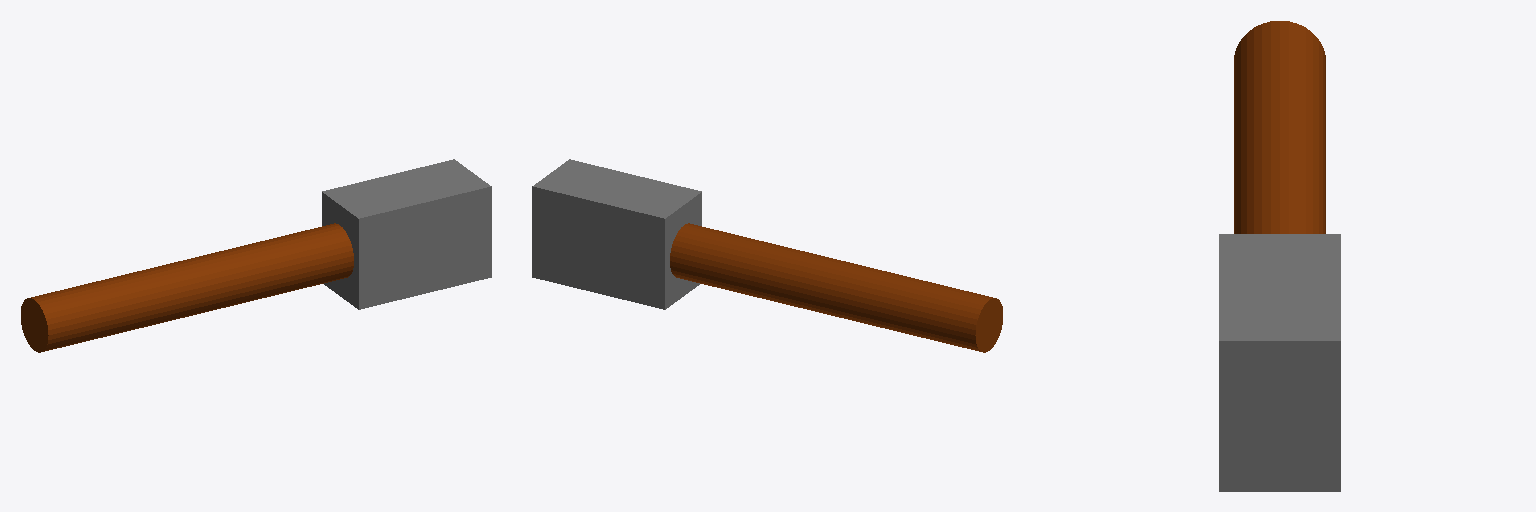
The robot description file, URDF, robot "handle_head":
<?xml version="1.0"?>
<robot name="handle_head">

  <link name="handle_head">
    <!-- Handle -->
    <visual>
              <origin xyz="0 0 0" rpy="0 -1.5707963267948966 0"/>
        <geometry>
          <cylinder length="0.17104368552662022" radius="0.01359433334502073"/>
        </geometry>
        
      <material name="brown">
        <color rgba="0.55 0.27 0.07 1.0"/>
      </material>
    </visual>
    <collision>
              <origin xyz="0 0 0" rpy="0 -1.5707963267948966 0"/>
        <geometry>
          <cylinder length="0.17104368552662022" radius="0.01359433334502073"/>
        </geometry>
        
    </collision>

    <!-- Head -->
    <visual>
              <origin xyz="0.12267751483198347 0 0" rpy="0 0 0"/>
        <geometry>
          <box size="0.0743113441373467 0.03599241417004795 0.048740312515078266"/>
        </geometry>
        
      <material name="gray">
        <color rgba="0.5 0.5 0.5 1.0"/>
      </material>
    </visual>
    <collision>
              <origin xyz="0.12267751483198347 0 0" rpy="0 0 0"/>
        <geometry>
          <box size="0.0743113441373467 0.03599241417004795 0.048740312515078266"/>
        </geometry>
        
    </collision>

    <inertial>
      <origin xyz="0.06466674672784063 0 0" rpy="0 0 0"/>
      <mass value="0.13615988345250518"/>
      <inertia ixx="2.7792657380022895e-05" iyy="0.0007536036389162882" izz="0.0007471430256915199" ixy="0" ixz="0" iyz="0"/>
    </inertial>
  </link>

</robot>

--- What the picture shows (computed from the rendered views, not written in the file) ---
The picture shows the robot from 3 angles, left to right: view 1: azimuth 30°, elevation 25°; view 2: azimuth 150°, elevation 25°; view 3: azimuth 270°, elevation 25°; orthographic projection.
Robot: handle_head — 1 links, 0 joints (none); root link handle_head; default pose: all joints at 0.
Links seen in each view (by area): view 1: handle_head; view 2: handle_head; view 3: handle_head.
Link boxes in pixels (left/top/right/bottom): handle_head: left=21, top=159, right=491, bottom=352; handle_head: left=532, top=159, right=1002, bottom=352; handle_head: left=1219, top=21, right=1340, bottom=491.
Size in the robot's own frame: 0.2454 by 0.036 by 0.0487 metres.
Geometry: primitives only (box / cylinder / sphere), no mesh files.
